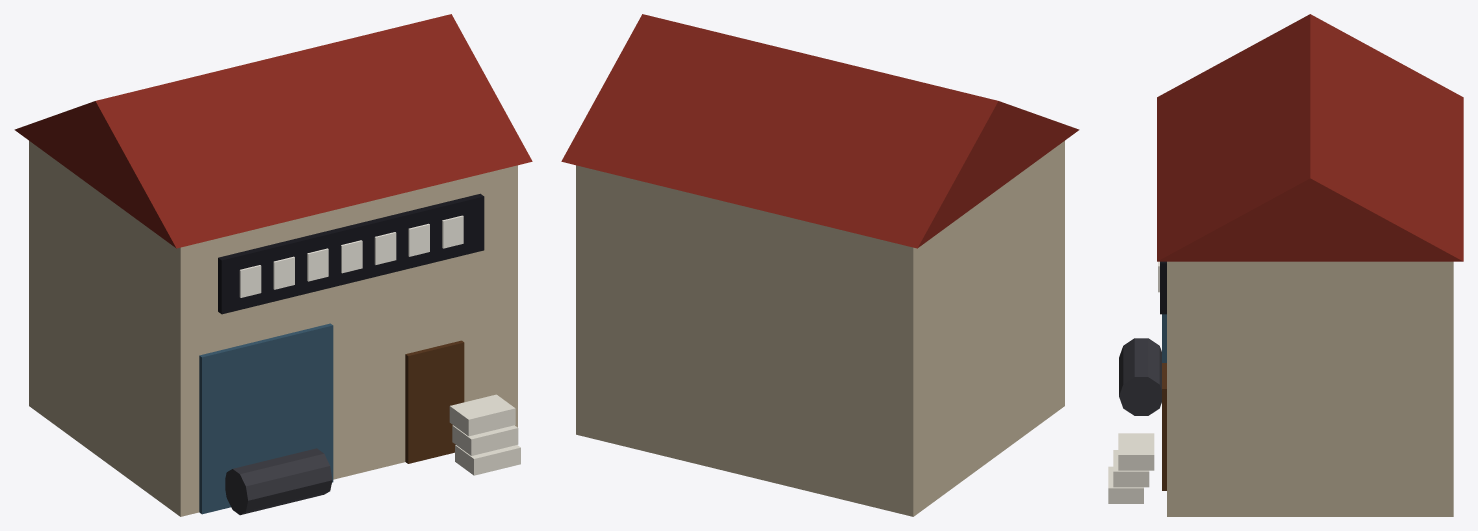
File: redakcja.glb
The picture shows the model from 3 angles, left to right: view 1: azimuth 30°, elevation 25°; view 2: azimuth 150°, elevation 25°; view 3: azimuth 270°, elevation 25°; orthographic projection. The views are drawn at different scales.
Parts seen in each view (by area): view 1: redakcja; view 2: redakcja; view 3: redakcja.
Part boxes in pixels (<box>): redakcja: <box>14,14,532,516</box>; redakcja: <box>561,14,1079,516</box>; redakcja: <box>1108,14,1463,516</box>.
Size of the model in its own units: 3.8 by 3.7 by 3.48.
